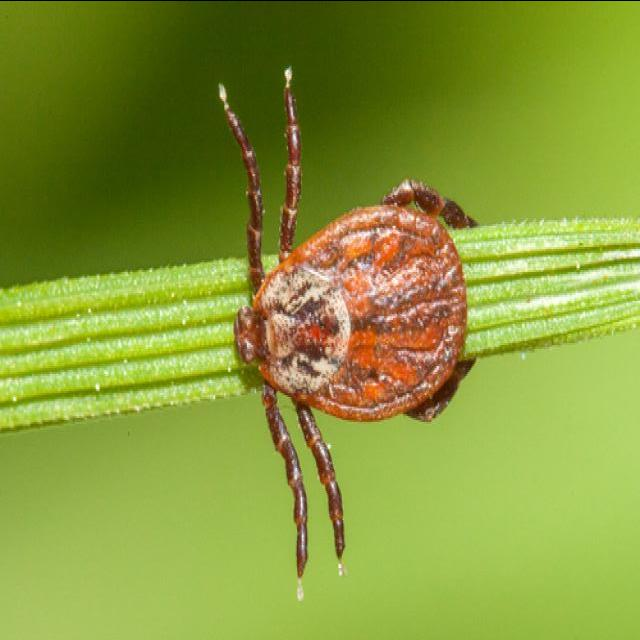Dermacentor Reticulatus-F: (221, 75, 474, 578)
